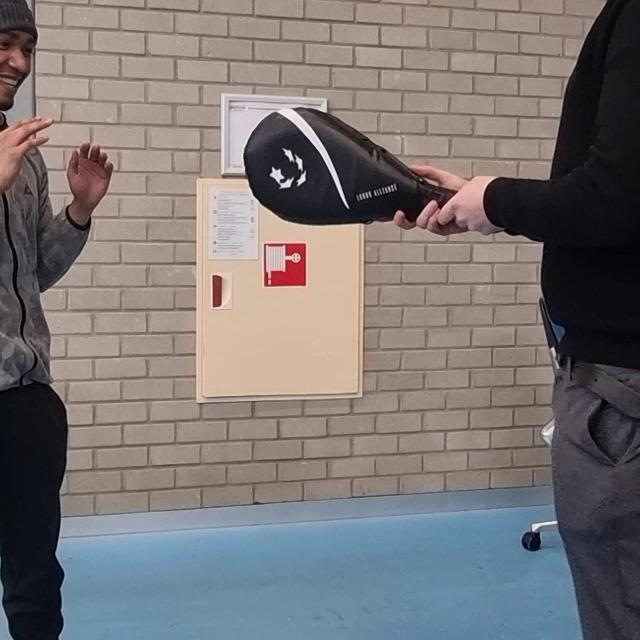paddle: (242, 107, 451, 224)
